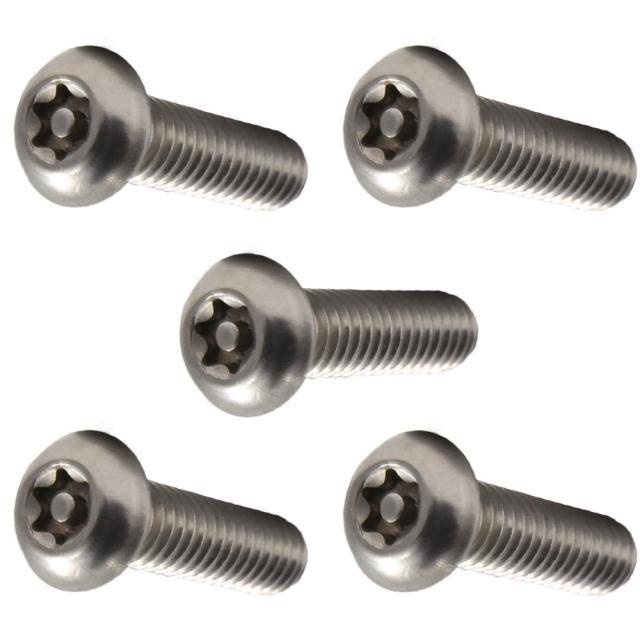torx: (341, 428, 479, 594), (341, 44, 475, 210), (178, 252, 311, 417), (14, 43, 146, 209), (12, 432, 145, 596)
